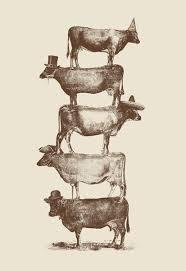cow: (36, 151, 128, 201), (56, 103, 144, 155), (45, 195, 129, 248), (39, 60, 124, 109), (68, 24, 140, 67)
